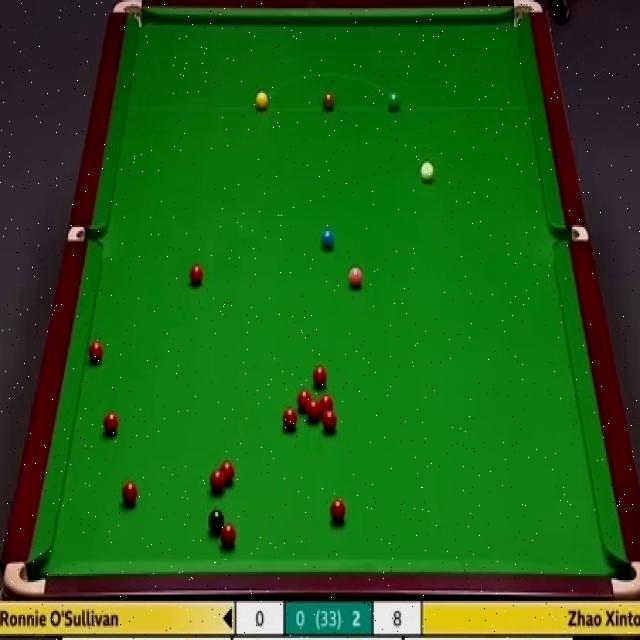black-ball: (208, 508, 227, 532)
blue-ball: (321, 227, 335, 253)
brown-ball: (322, 91, 335, 110)
green-ball: (387, 92, 401, 110)
pink-ball: (348, 268, 364, 291)
red-ball: (328, 495, 347, 526), (86, 340, 106, 367), (118, 479, 137, 506), (101, 408, 118, 436), (310, 365, 330, 388), (296, 387, 313, 412), (210, 468, 227, 493), (221, 461, 238, 484), (319, 395, 335, 419), (222, 524, 236, 550), (282, 405, 297, 429), (306, 400, 322, 422), (322, 409, 337, 430), (189, 266, 204, 285)
white-ball: (421, 158, 435, 183)
yellow-ball: (254, 91, 268, 110)
